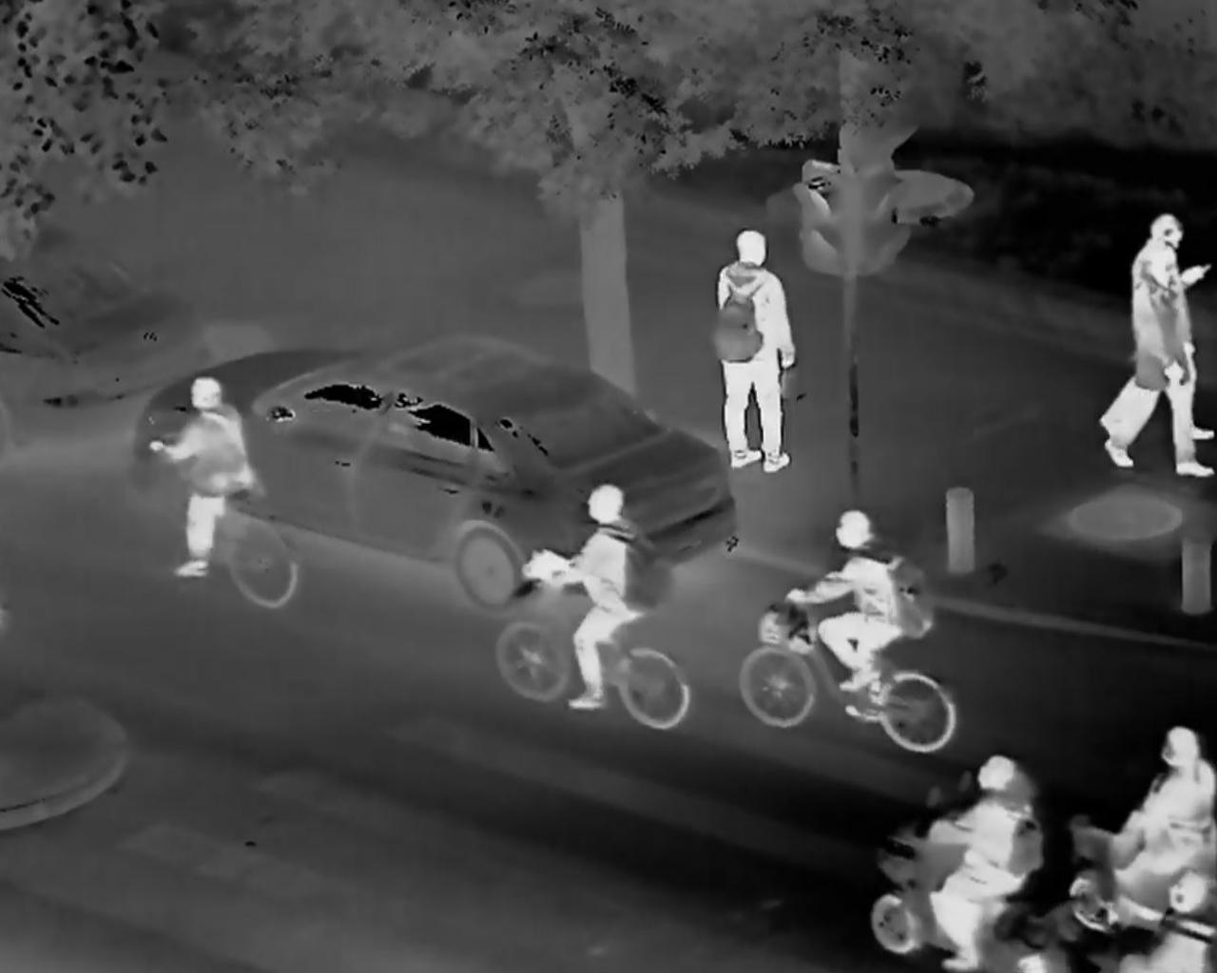person: (526, 474, 669, 715), (1107, 203, 1217, 480), (790, 501, 933, 707), (147, 377, 266, 587), (928, 755, 1037, 973), (710, 230, 802, 472), (1123, 724, 1217, 958)
